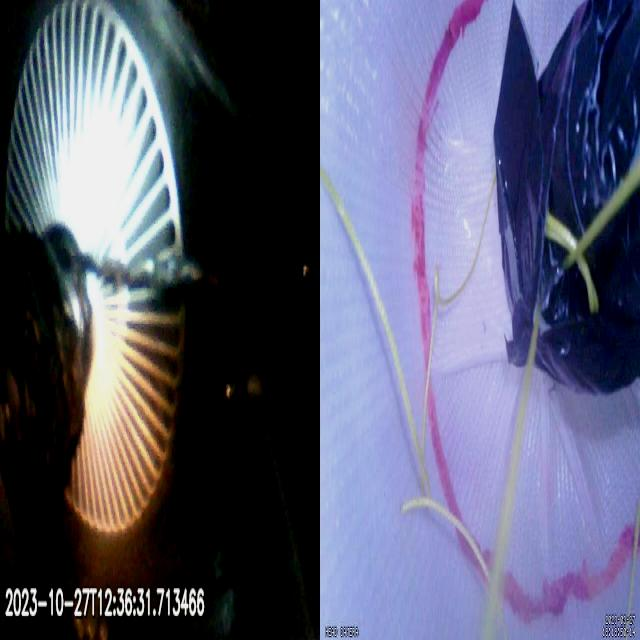red-circle: (411, 0, 640, 623)
